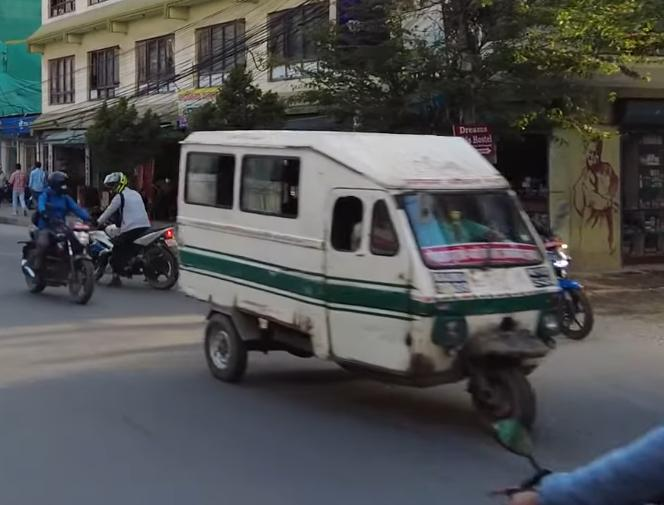bike: (20, 221, 96, 308), (96, 218, 181, 294)
tempo: (169, 116, 577, 441)
